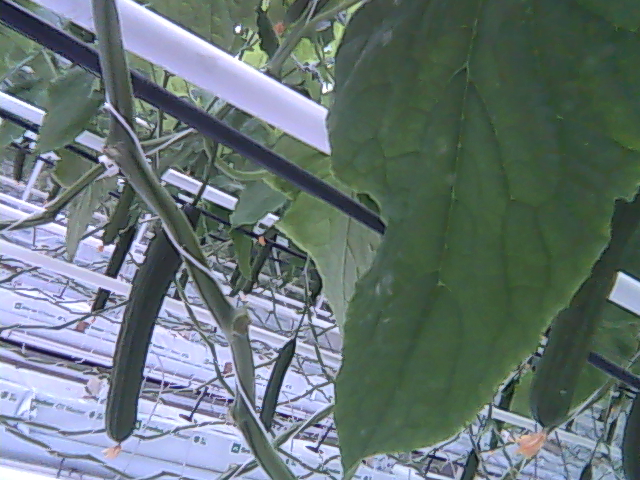concombre: (512, 167, 639, 461), (88, 200, 206, 462)
